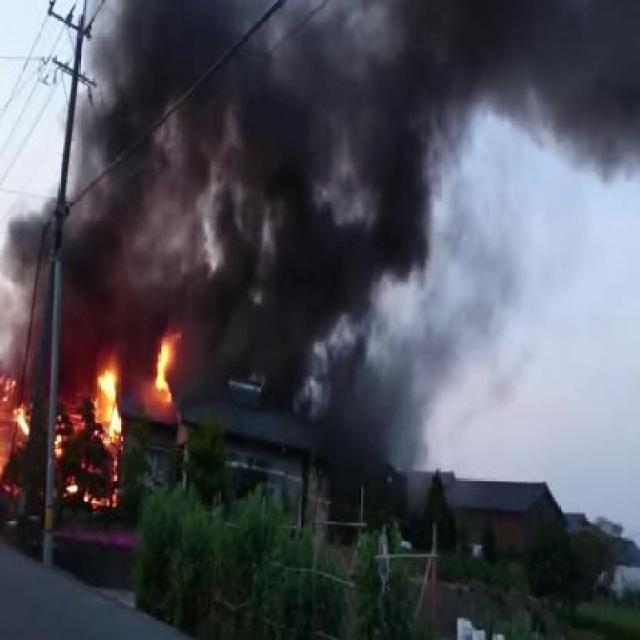Fire: (59, 345, 128, 519), (2, 376, 40, 512), (143, 332, 182, 434)
Smoke: (2, 4, 640, 335)
